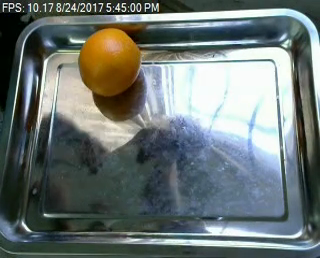Orange: (77, 27, 140, 95)
